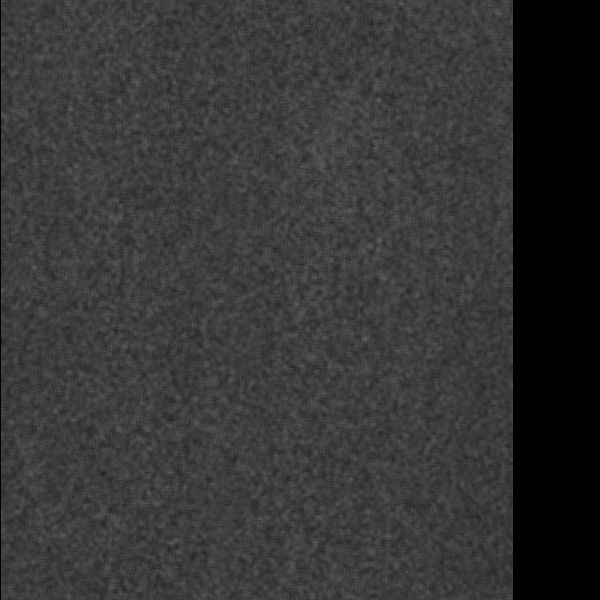spark: (303, 108, 365, 293), (392, 430, 436, 572), (434, 538, 499, 570)
